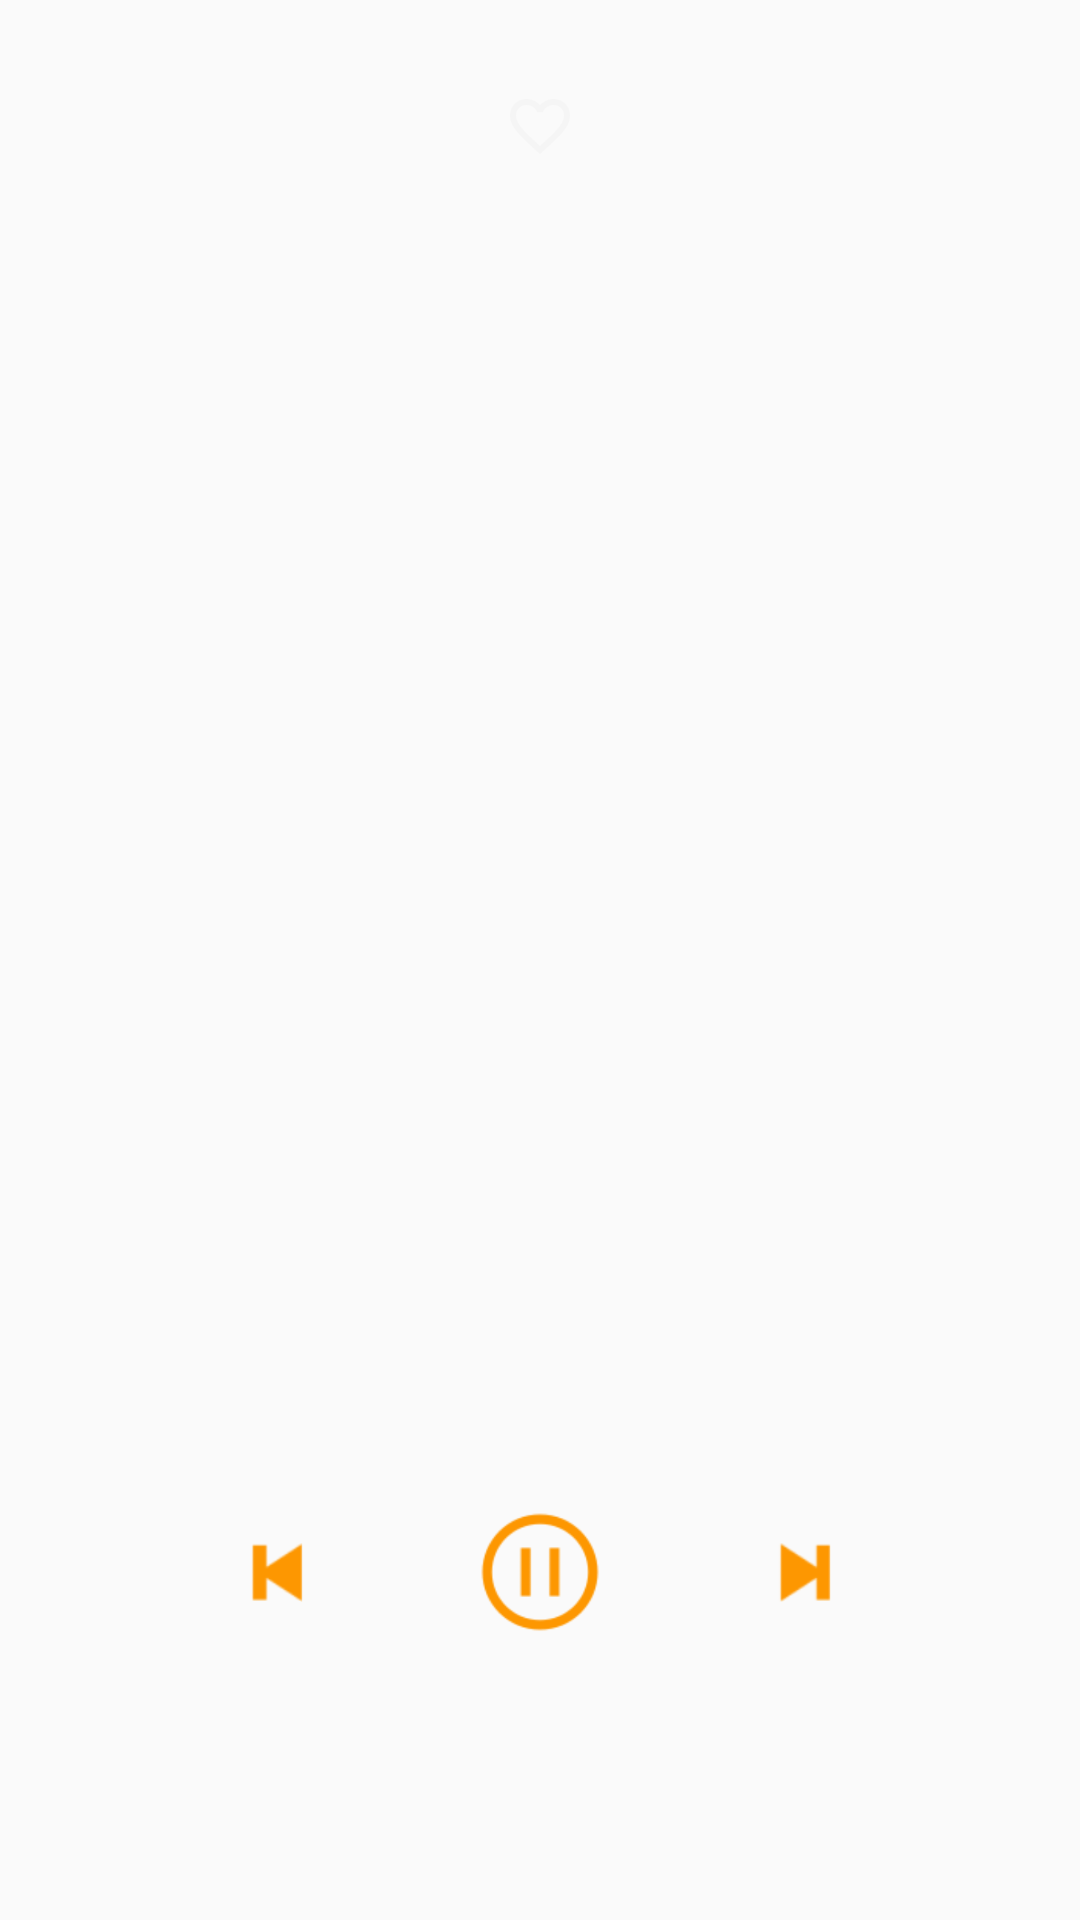

Point at icon controls on the screen. Image size 1080x1920, points as (x=x, y=y).
anterior pista: (x=277, y=1572)
pausa pista: (x=540, y=1572)
siguiente pista: (x=805, y=1572)
